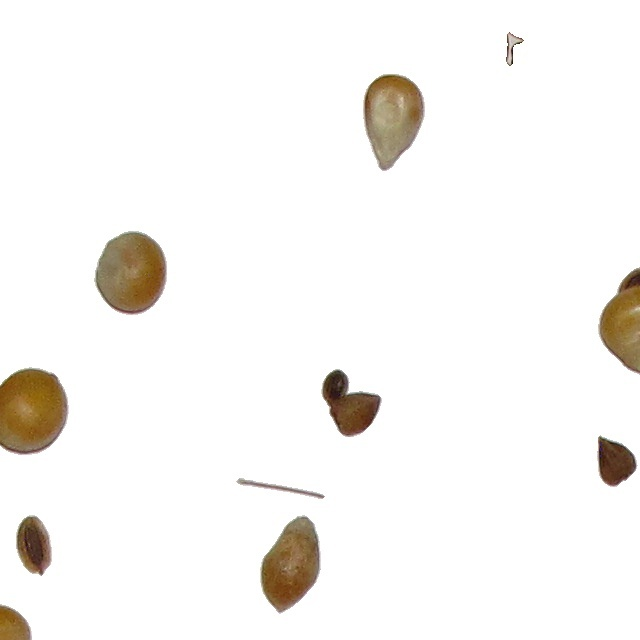buckwheat: (15, 514, 53, 577), (335, 389, 383, 438), (596, 434, 639, 488)
dill: (235, 477, 326, 500)
mais: (93, 230, 168, 316), (259, 514, 322, 615), (362, 73, 426, 172), (597, 266, 640, 382)
other: (505, 31, 525, 67)
